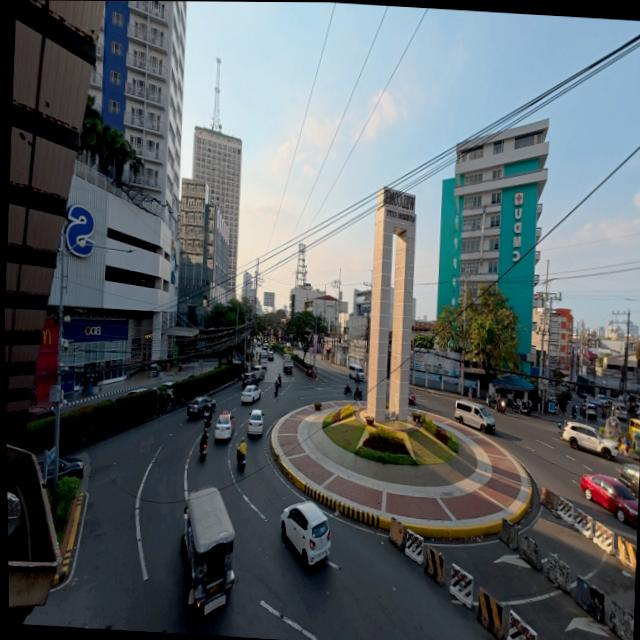Jeepneys: (182, 487, 234, 613)
car: (280, 502, 330, 567), (580, 474, 638, 525), (559, 422, 618, 459), (618, 465, 639, 499), (186, 396, 211, 417), (214, 412, 233, 439), (58, 457, 82, 478), (247, 409, 263, 435), (27, 407, 54, 422), (240, 386, 259, 403), (156, 381, 174, 398), (579, 403, 597, 420), (610, 403, 627, 420), (242, 372, 258, 390), (251, 365, 265, 380), (126, 387, 147, 396), (596, 394, 607, 405), (408, 393, 415, 405), (267, 350, 273, 361), (285, 342, 290, 349), (298, 342, 302, 350)
motorcycle: (518, 401, 530, 415), (237, 454, 246, 471), (200, 442, 208, 460), (485, 395, 496, 408), (557, 421, 566, 436), (496, 400, 506, 413), (353, 388, 361, 401), (571, 405, 577, 420), (343, 386, 350, 396), (277, 375, 281, 387), (274, 385, 278, 397)
trucks: (282, 354, 292, 373)
vans: (454, 400, 494, 432), (347, 364, 363, 381)
